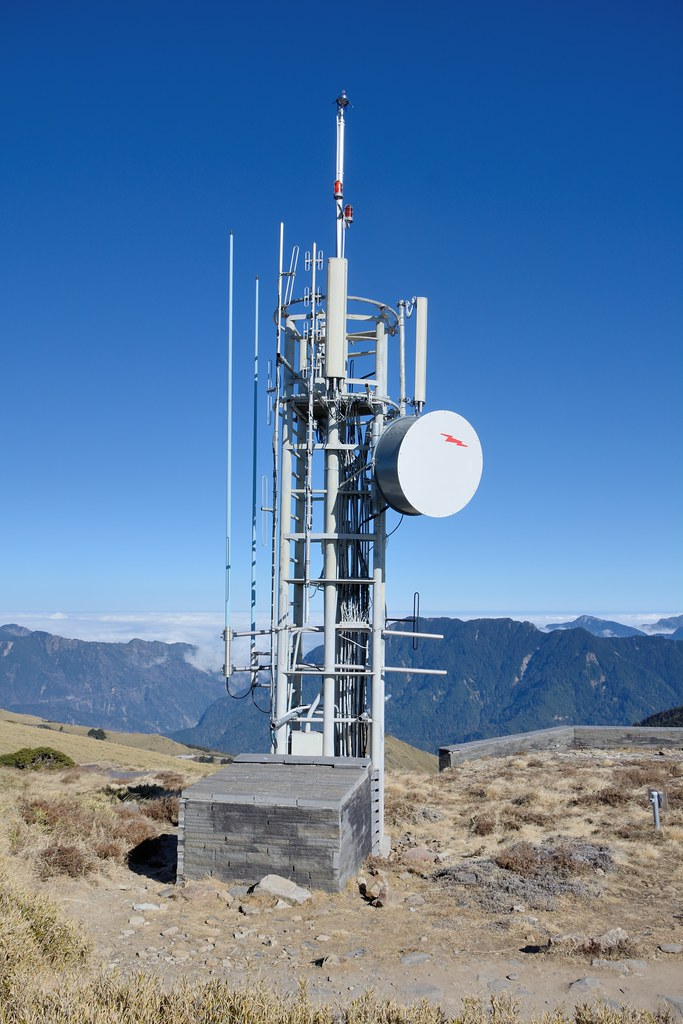a: (392, 285, 443, 409), (317, 251, 357, 394)
b: (373, 400, 483, 521)
